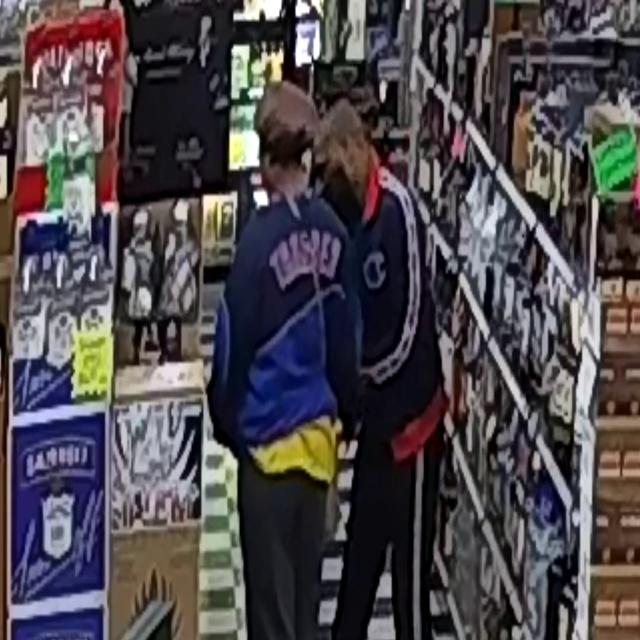normal: (192, 79, 382, 640), (338, 56, 472, 640)
